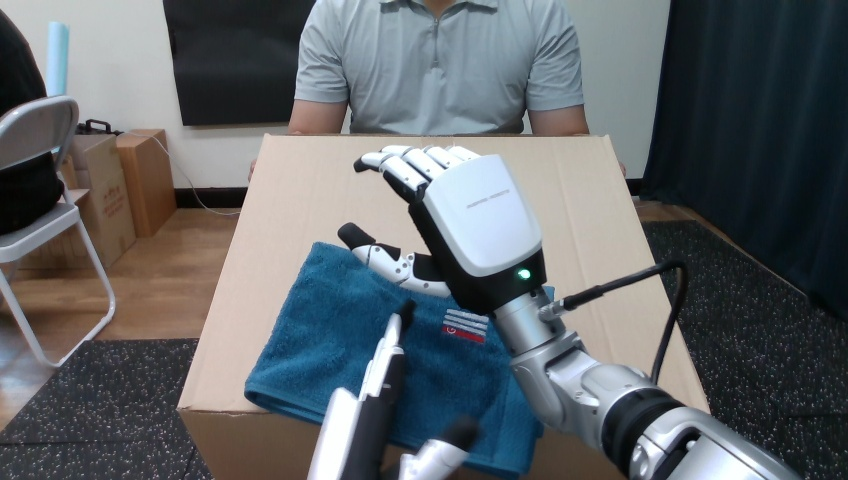left robot hand: (354, 145, 797, 479), (561, 268, 680, 375)
